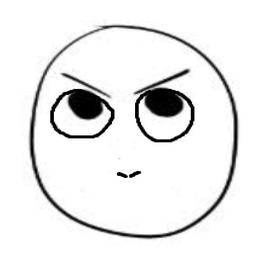frowning_eyebrow: (133, 67, 193, 93), (60, 70, 112, 97)
nose: (115, 168, 145, 183)
small_eye: (47, 86, 116, 143), (135, 85, 195, 146)
